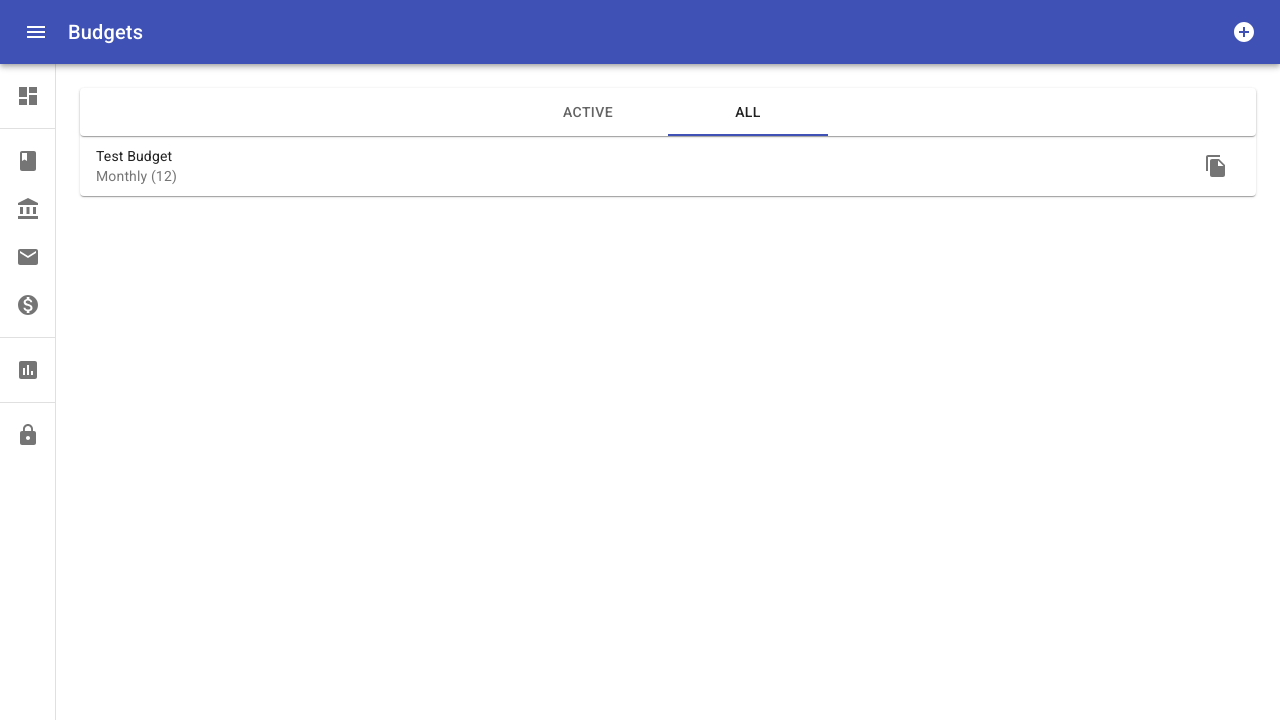
Scenario: should display all budgets tab if initial route matches
Expected: the button "Test Budget Monthly (12)" is shown, 96,148 -> 177,184
Expected: the button "2021 Test Budget" is not shown
Click the tab "Active".
click(588, 112)  # box 508,88 -> 668,136
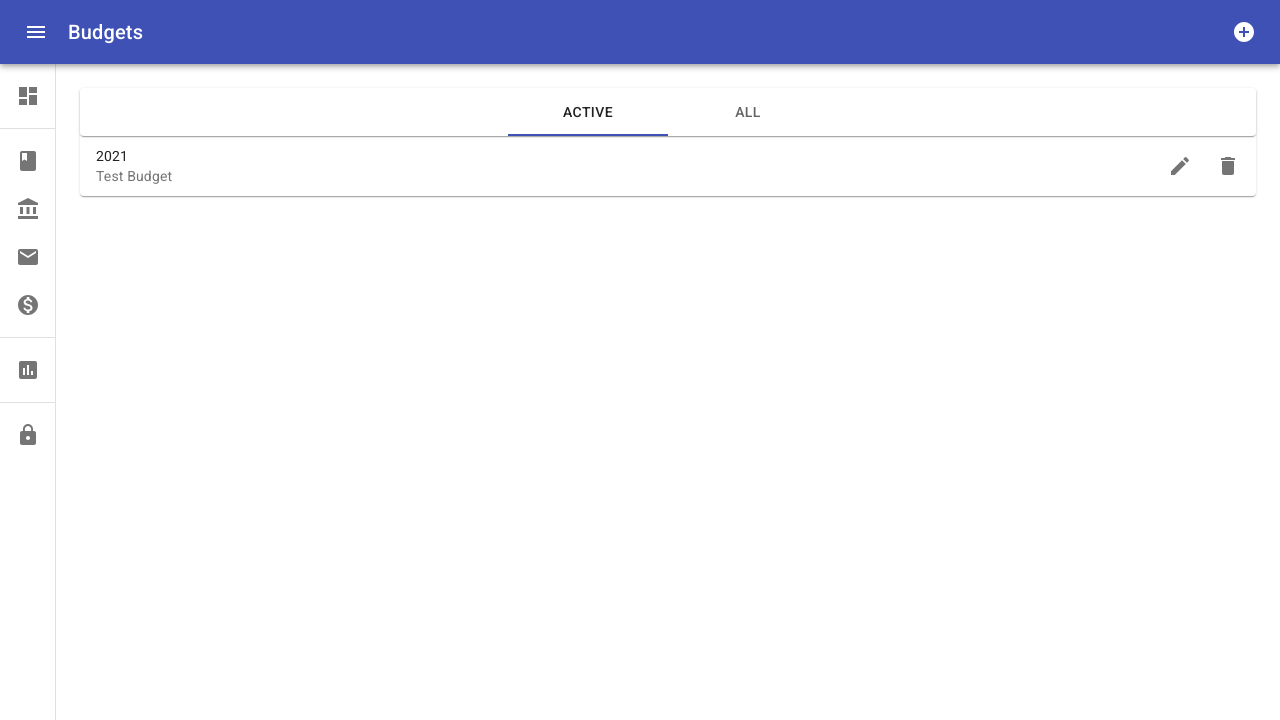
Now the button "2021 Test Budget" is shown, box 96,148 -> 172,184
Now the button "Test Budget Monthly (12)" is gone
